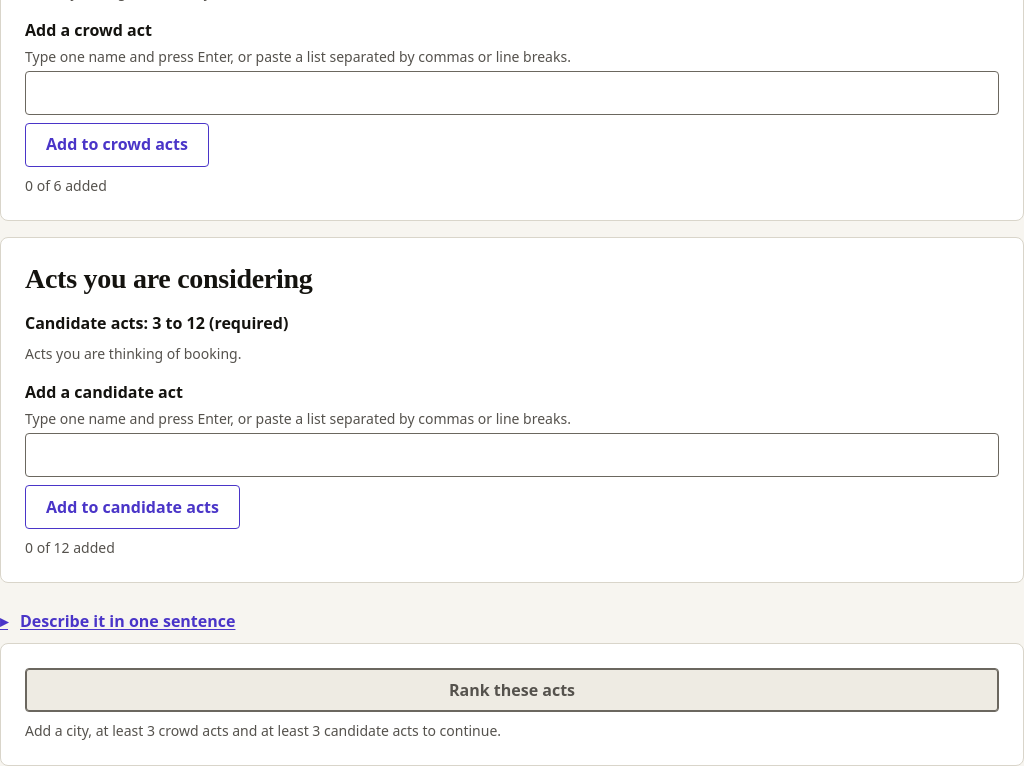
Test case: one-sentence intake in the room form › the daily limit shows a fixed message, keeps the form usable and never shows server text
(page scrolled)
Click the heading "Describe it in one sentence".
click(128, 621)  # box x1=20 y1=610 x2=236 y2=632
(page scrolled)
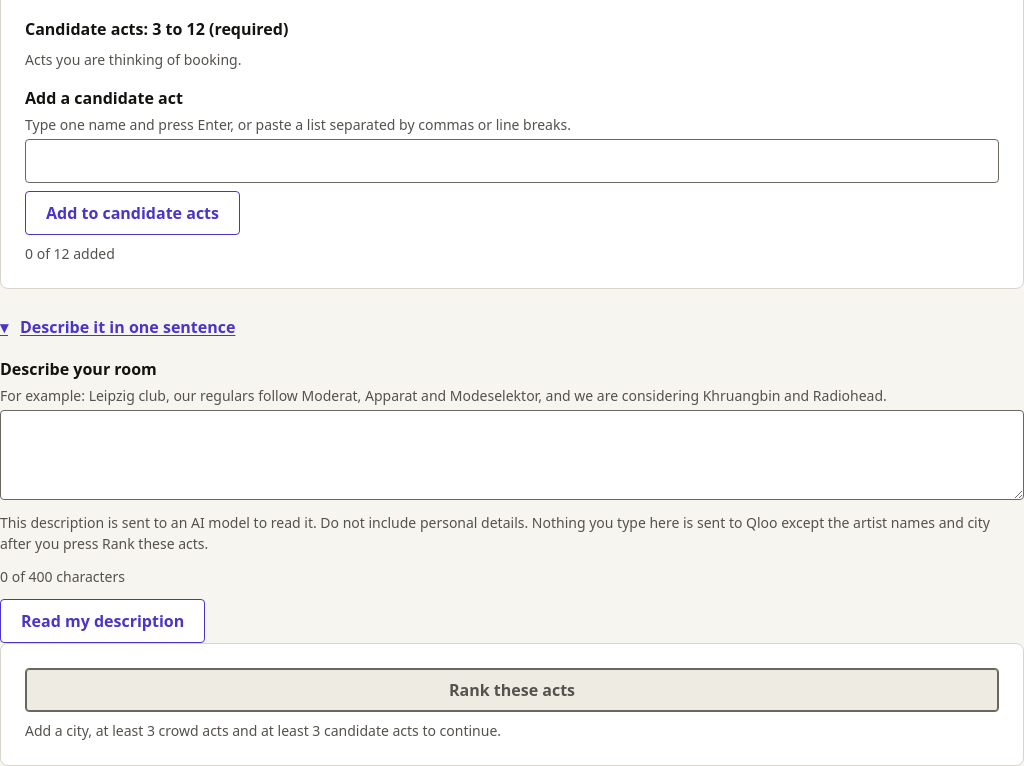
Type "Leipzig club" into the text box labelled "Describe your room".
click(512, 455); type("Leipzig club")  # box x1=0 y1=410 x2=1023 y2=500
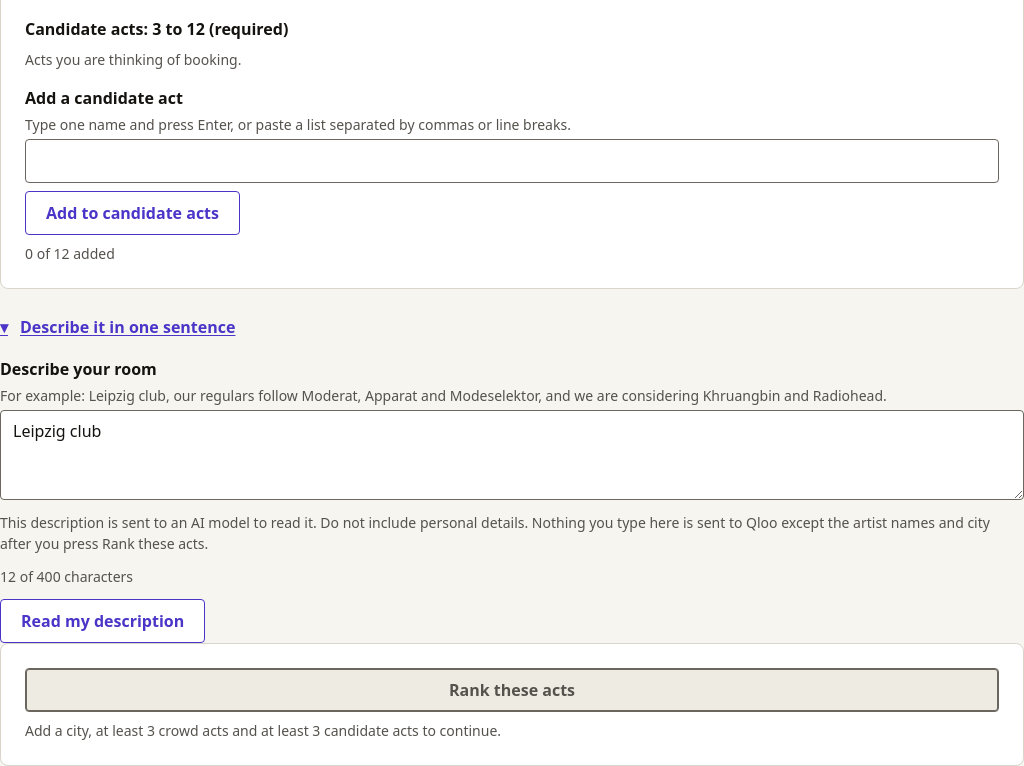
Click the button "Read my description".
click(103, 621)  # box x1=0 y1=599 x2=205 y2=643
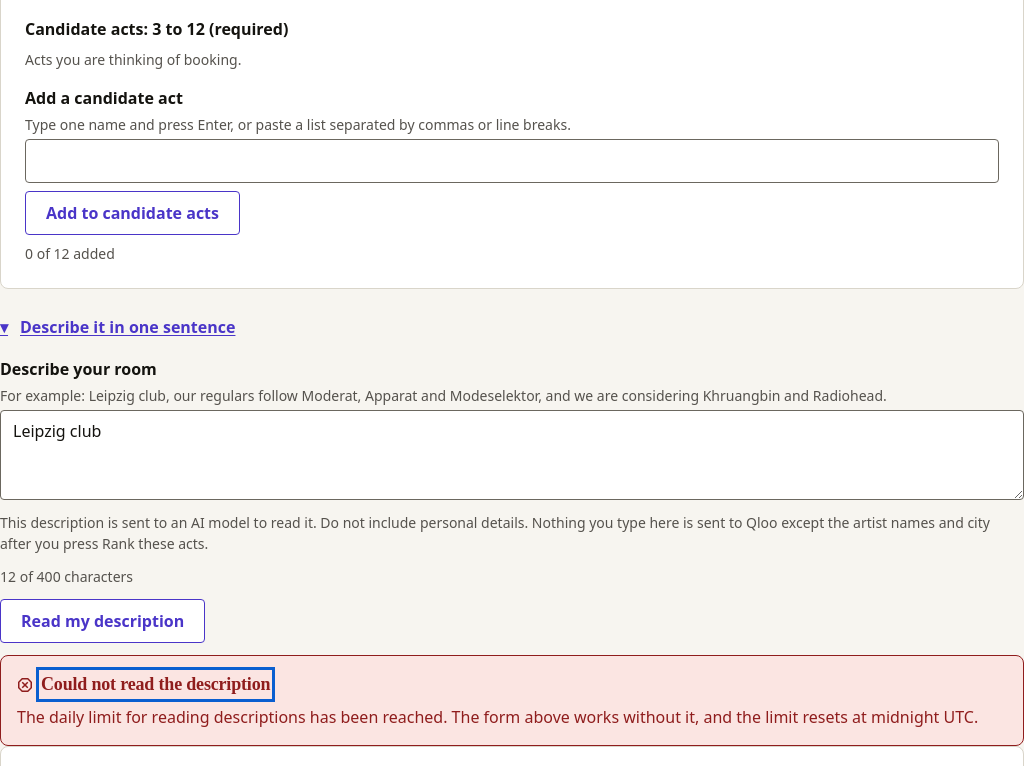
Expected: the message "Could not read the description" shows "daily limit for reading descriptions", x1=17 y1=706 x2=978 y2=728
